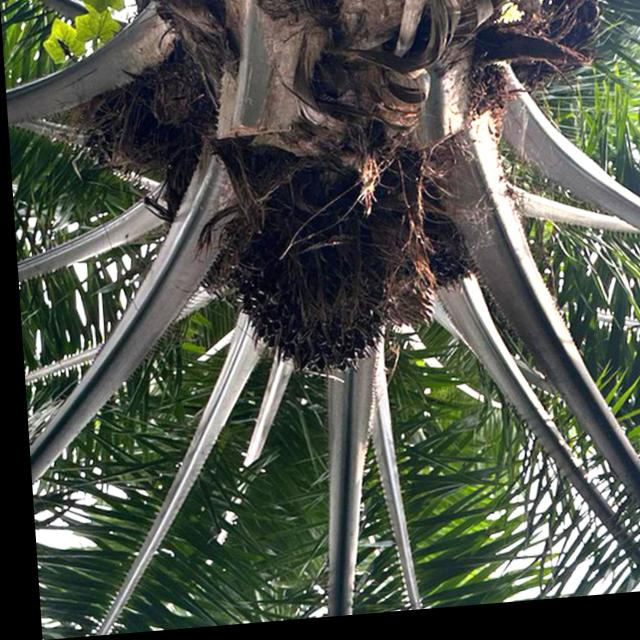ripe: (224, 183, 397, 387)
